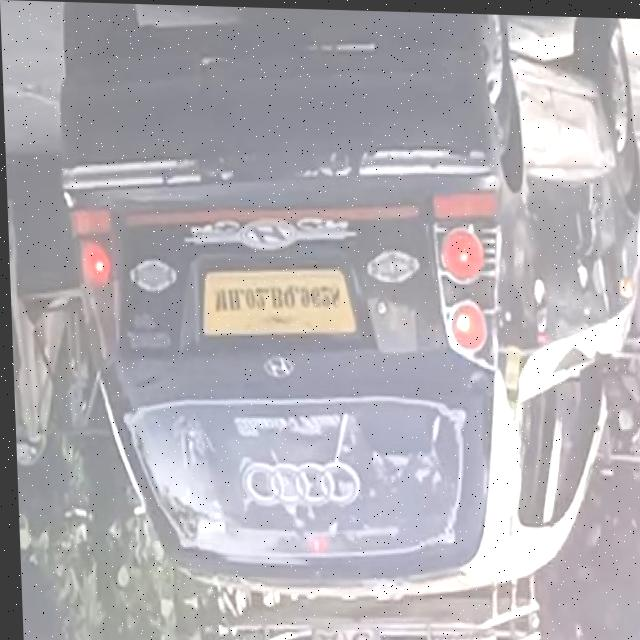plate: (198, 258, 356, 338)
